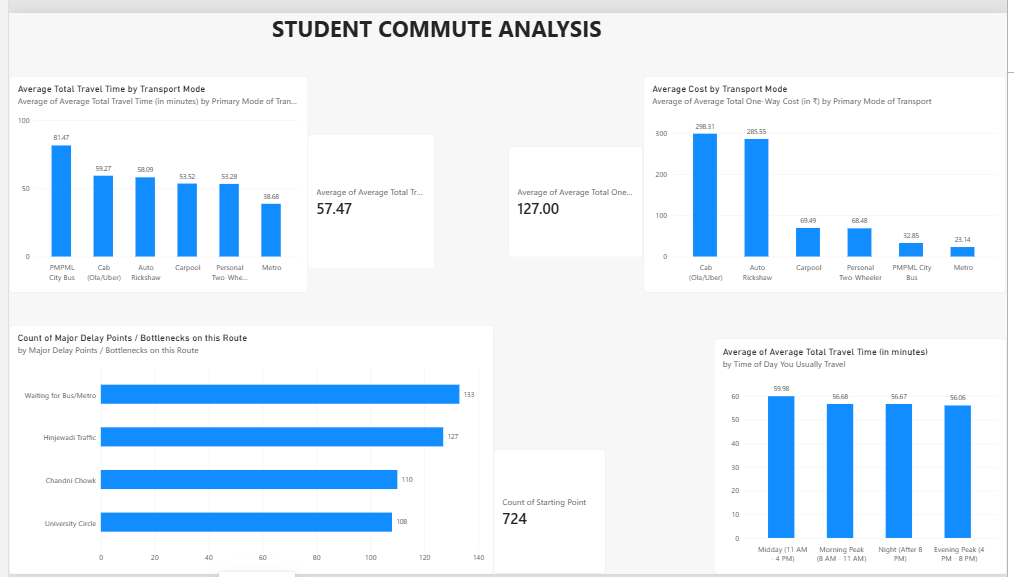

What the dashboard file says about the page in this screenshot:
{"tool":"powerbi","page":{"name":"Page 1","canvas":[1920,1080],"ordinal":0},"visuals":[{"type":"clusteredColumnChart","title":"Average Total Travel Time by Transport Mode ","fields":{"Category":["student_commute_data_google_form.Primary Mode of Transport"],"Y":["Avg(student_commute_data_google_form.Average Total Travel Time (in minutes))"]},"box":[0,121.9,575.4,416.7],"z":0},{"type":"clusteredColumnChart","title":"Average Cost by Transport Mode","fields":{"Category":["student_commute_data_google_form.Primary Mode of Transport"],"Y":["Avg(student_commute_data_google_form.Average Total One-Way Cost (in ₹))"]},"box":[1221.7,121.9,697.3,416.7],"z":1},{"type":"clusteredBarChart","fields":{"Category":["student_commute_data_google_form.Major Delay Points / Bottlenecks on this Route"],"Y":["CountNonNull(student_commute_data_google_form.Major Delay Points / Bottlenecks on this Route)"]},"box":[0,600.2,932.1,479],"z":2},{"type":"textbox","box":[0,0,1318.1,280.6],"z":3},{"type":"cardVisual","fields":{"Data":["Avg(student_commute_data_google_form.Average Total Travel Time (in minutes))"]},"box":[574.3,233.7,245.3,259.7],"z":4},{"type":"cardVisual","fields":{"Data":["Avg(student_commute_data_google_form.Average Total One-Way Cost (in ₹))"]},"box":[961,256.8,259.7,213.5],"z":5},{"type":"cardVisual","fields":{"Data":["CountNonNull(student_commute_data_google_form.Starting Point)"]},"box":[932.1,839.8,216.4,239.5],"z":6},{"type":"clusteredColumnChart","fields":{"Category":["student_commute_data_google_form.Time of Day You Usually Travel"],"Y":["Avg(student_commute_data_google_form.Average Total Travel Time (in minutes))"]},"box":[1356.3,626.2,562.7,453.1],"z":7}]}

Visuals, with their boxes in screenshot pixels (x1, y1, x2, y2), scaled from the page's 1920x1080 canvas onto the 1014x577 screenshot:
"Average Total Travel Time by Transport Mode " clusteredColumnChart: <bbox>0, 65, 304, 288</bbox>
"Average Cost by Transport Mode" clusteredColumnChart: <bbox>645, 65, 1013, 288</bbox>
clusteredBarChart - student_commute_data_google_form.Major Delay Points / Bottlenecks on this Route x CountNonNull(student_commute_data_google_form.Major Delay Points / Bottlenecks on this Route): <bbox>0, 321, 492, 576</bbox>
textbox: <bbox>0, 0, 696, 150</bbox>
cardVisual - Avg(student_commute_data_google_form.Average Total Travel Time (in minutes)): <bbox>303, 125, 433, 264</bbox>
cardVisual - Avg(student_commute_data_google_form.Average Total One-Way Cost (in ₹)): <bbox>508, 137, 645, 251</bbox>
cardVisual - CountNonNull(student_commute_data_google_form.Starting Point): <bbox>492, 449, 607, 576</bbox>
clusteredColumnChart - student_commute_data_google_form.Time of Day You Usually Travel x Avg(student_commute_data_google_form.Average Total Travel Time (in minutes)): <bbox>716, 335, 1013, 576</bbox>
